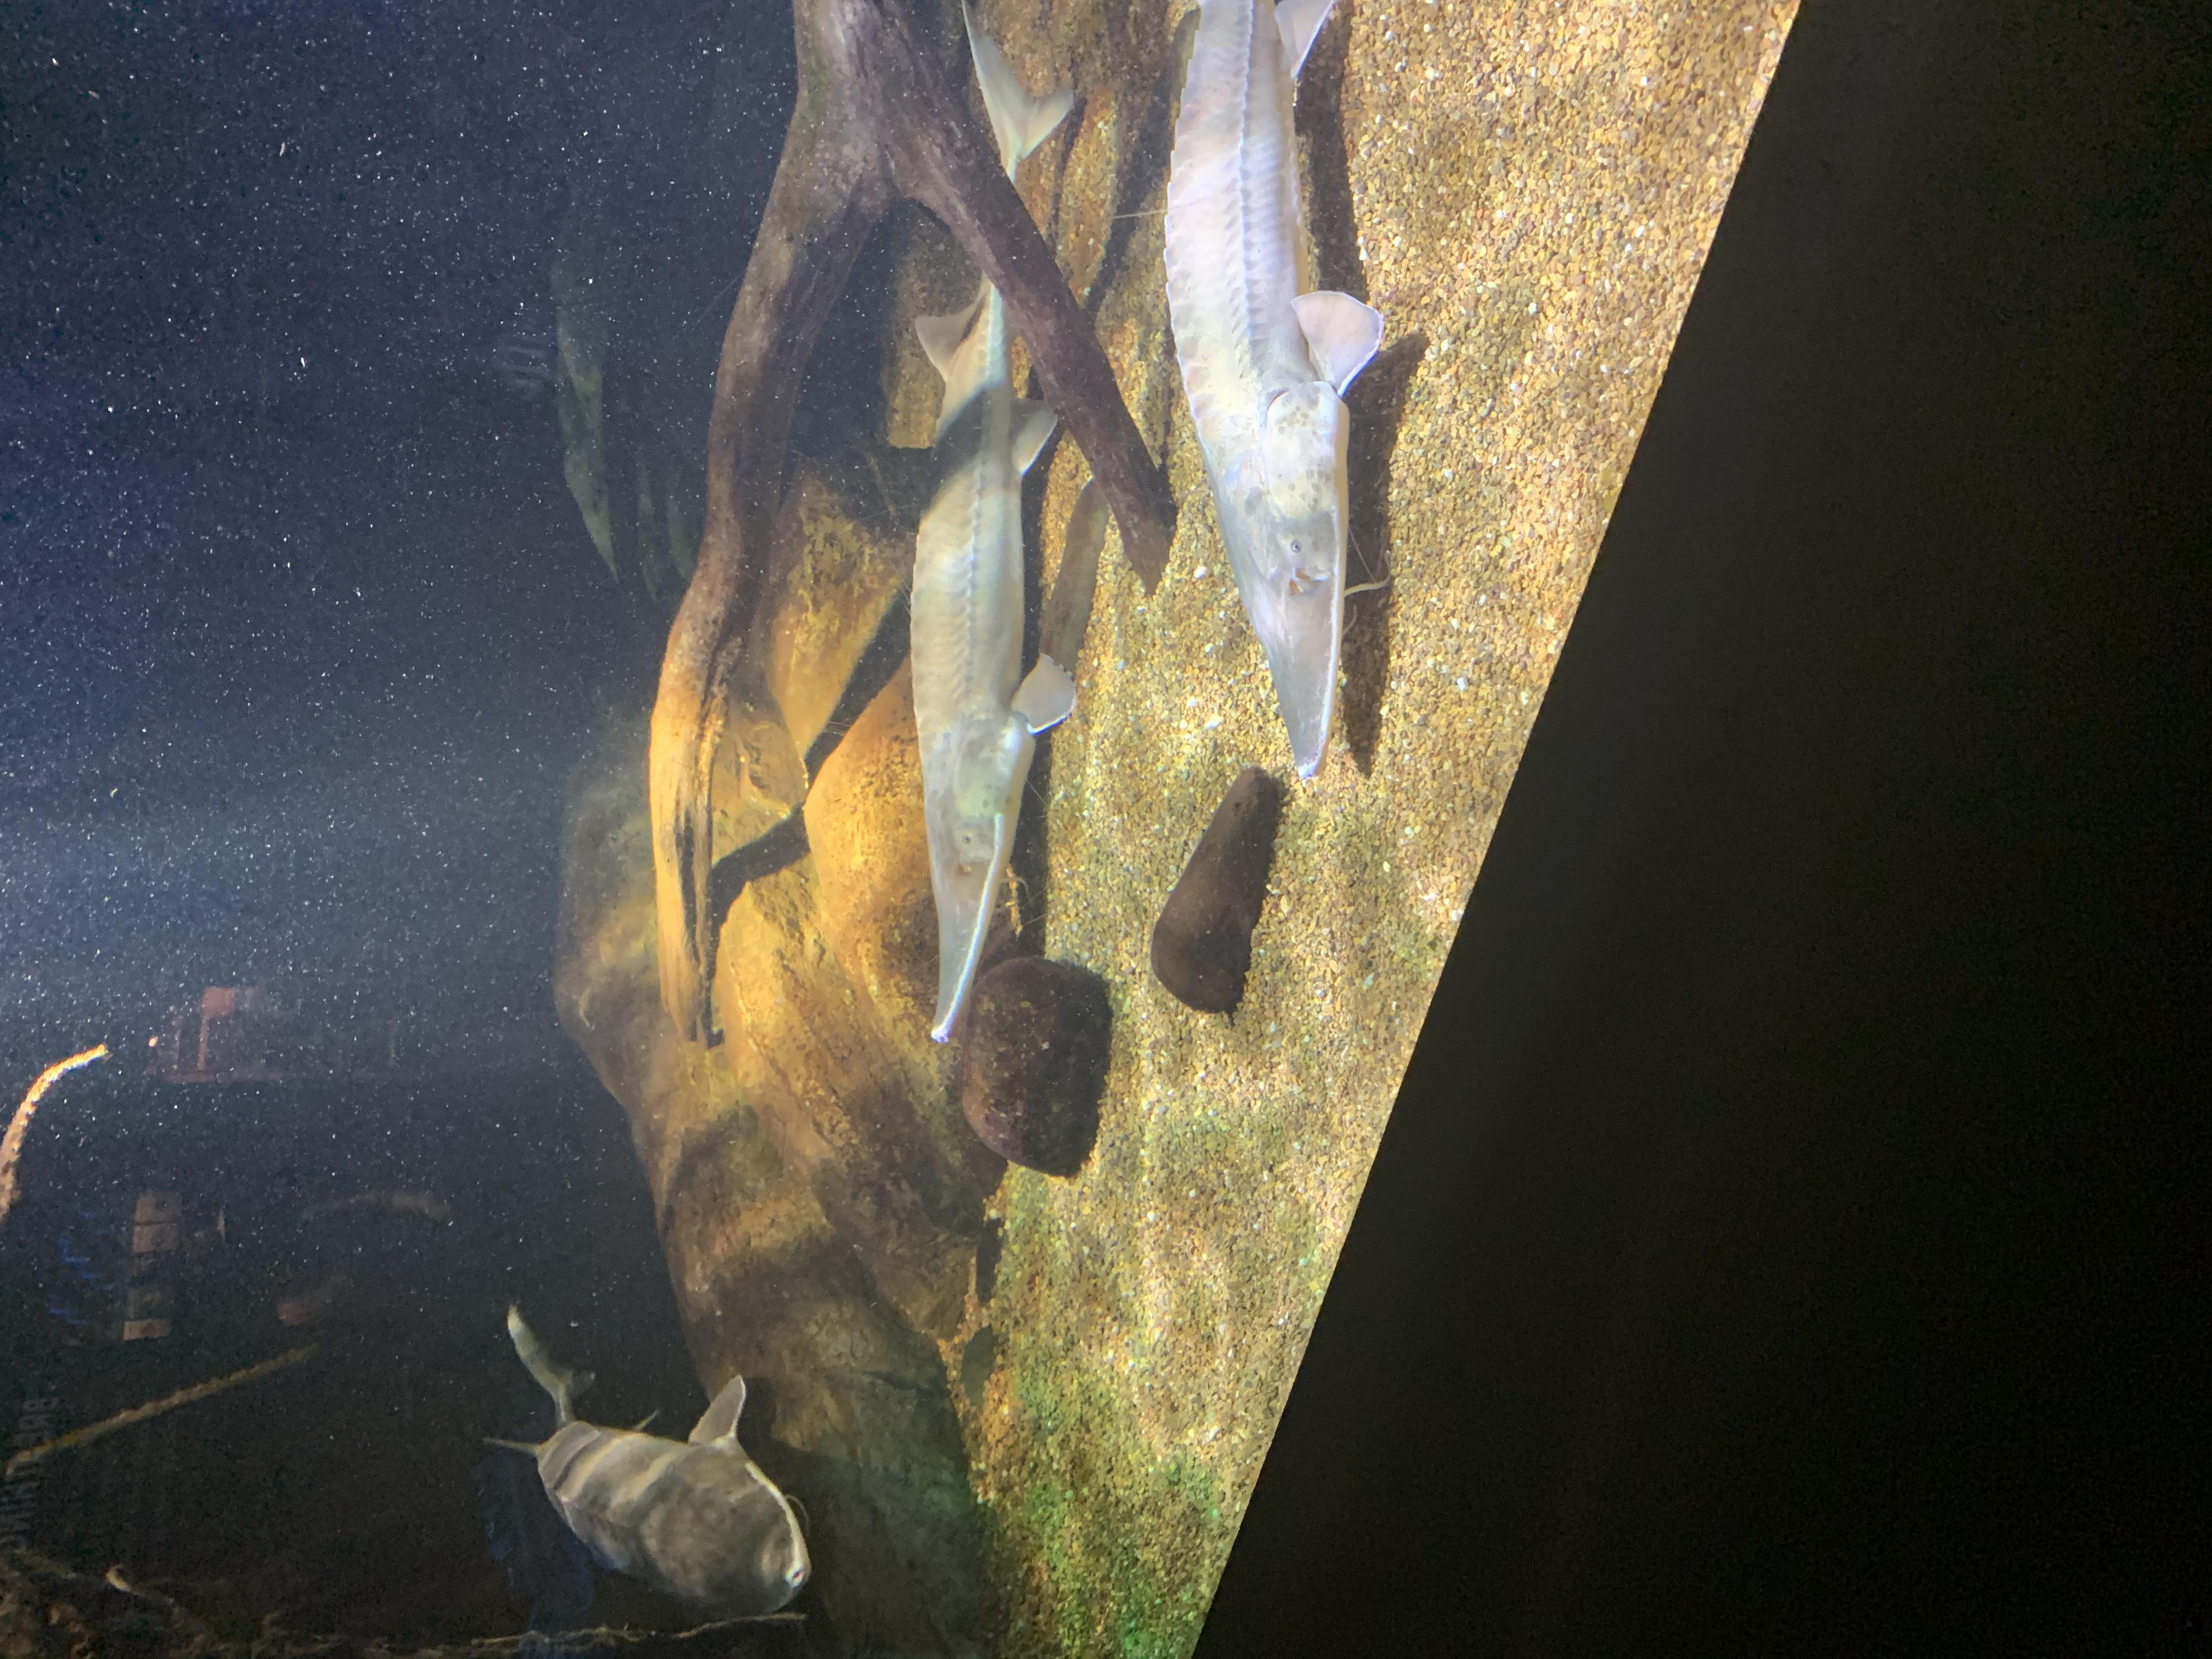fish: (881, 3, 1082, 1046), (1163, 0, 1385, 779)
shark: (479, 1304, 819, 1629)
